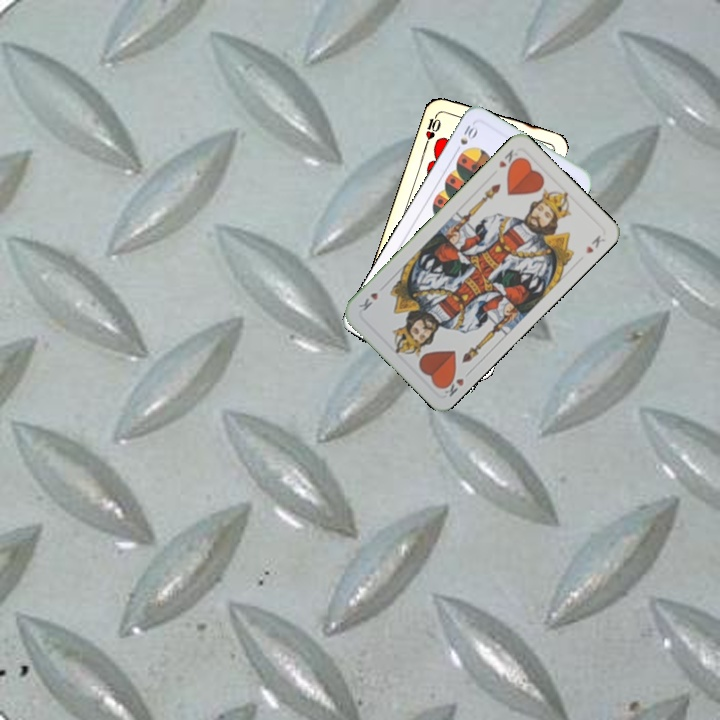H10: (421, 109, 444, 148)
HK: (438, 366, 474, 399), (495, 145, 520, 170)
S10: (451, 119, 481, 156)
